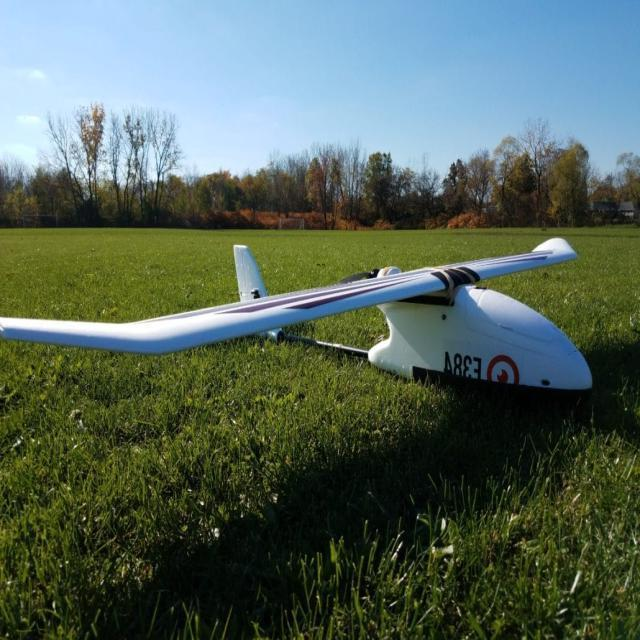iha: (0, 226, 589, 400)
